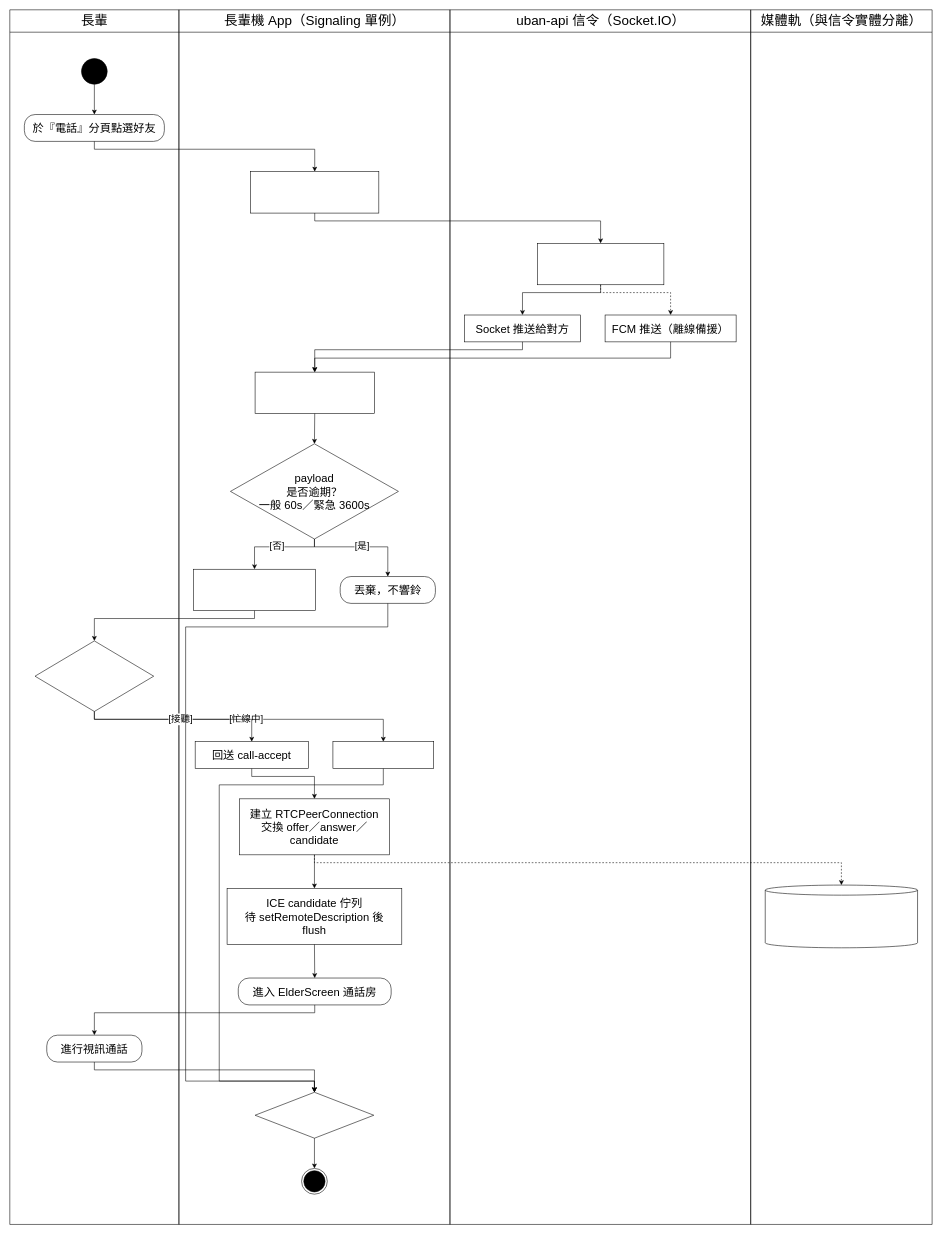
Some shapes in this 942 by 1234 pixel diagram are drawn without their labels. Each missing label, with the centre of its shape:
Oracle Cloud Coturn turn:152.69.196.5:3478 UDP 中繼: [841,916]
來電響鈴 是否接聽？: [94,675]
收到 call-request ／emergency-call: [314,393]
查 room_fcm_tokens 與 call_registry: [600,264]
送出 call-busy: [383,755]
送出 call-request 帶 targetId，不廣播: [314,192]
顯示來電畫面 CallKit 或備援通知: [254,590]
